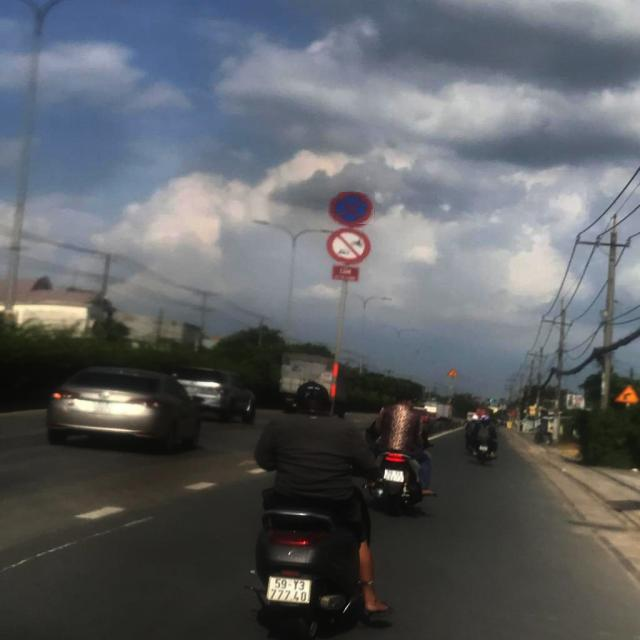cam_dung_xe_va_do_xe: (328, 192, 376, 226)
cam_xe_2_banh_va_xe_3_banh_co_dong_co: (328, 228, 371, 264)
cho_ngoat_nguy_hiem_ben_phai: (615, 384, 639, 402)
